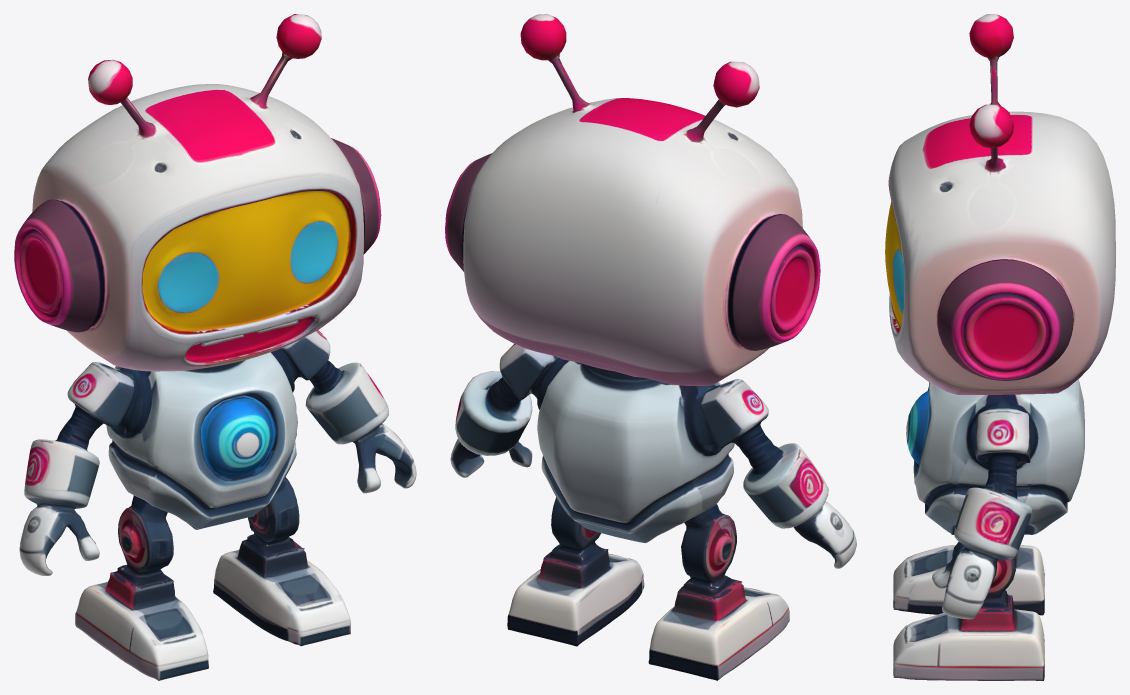
The model's file is robot.glb.
3 views of the same model, side by side, from view 1: azimuth 30°, elevation 25°; view 2: azimuth 150°, elevation 25°; view 3: azimuth 270°, elevation 25° (orthographic). The views are drawn at different scales.
Visible parts, largest first — view 1: model; view 2: model; view 3: model.
Boxes of the visible parts, <box> form: model: <box>14,14,416,680</box>; model: <box>445,14,856,680</box>; model: <box>885,14,1115,680</box>.
Size of the model in its own units: 2.76 by 3.99 by 1.46.
Materials: 1 (1 with a texture image).
